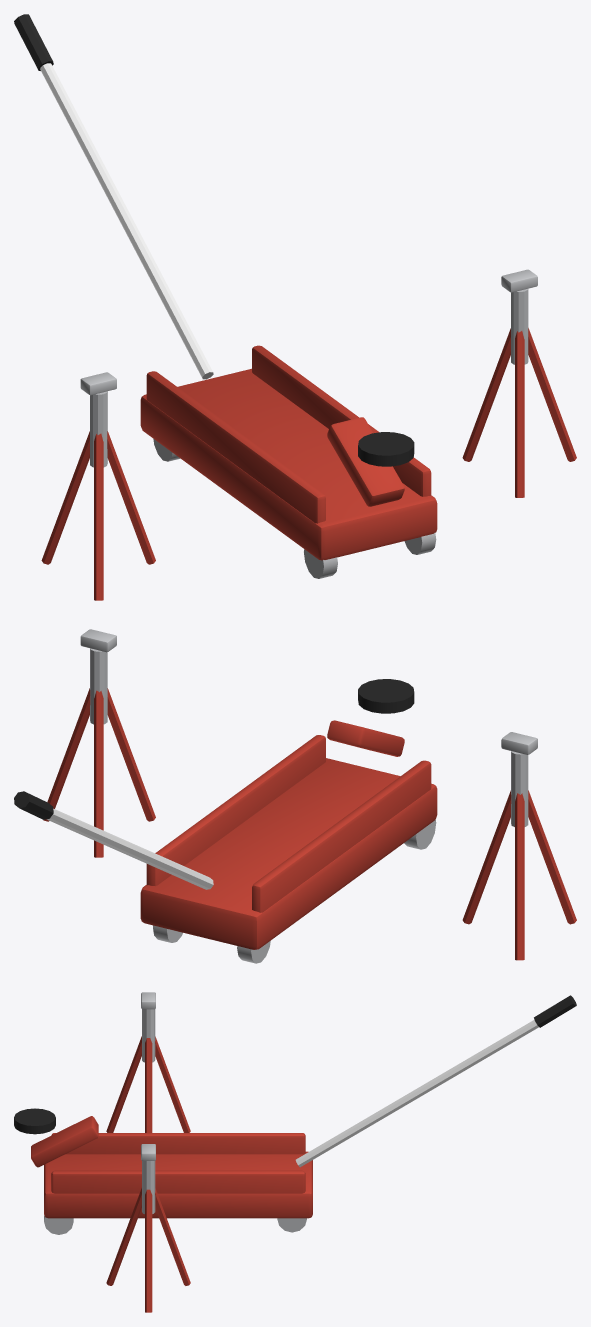
The model's file is g_jack.fbx.
3 renders of one model, top to bottom at view 1: azimuth 30°, elevation 25°; view 2: azimuth 150°, elevation 25°; view 3: azimuth 270°, elevation 25°, orthographic. The views are drawn at different scales.
Visible parts, largest first — view 1: g_jack_red, g_jack_steel, g_jack_chrome, g_jack_rubber; view 2: g_jack_red, g_jack_steel, g_jack_rubber, g_jack_chrome; view 3: g_jack_red, g_jack_chrome, g_jack_steel, g_jack_rubber.
Part boxes in pixels (left/top/right/bottom): g_jack_red: left=41, top=328, right=576, bottom=600; g_jack_steel: left=80, top=269, right=537, bottom=578; g_jack_chrome: left=40, top=63, right=213, bottom=379; g_jack_rubber: left=14, top=14, right=414, bottom=466; g_jack_red: left=43, top=688, right=576, bottom=960; g_jack_steel: left=80, top=629, right=537, bottom=963; g_jack_rubber: left=14, top=679, right=414, bottom=819; g_jack_chrome: left=47, top=808, right=213, bottom=889; g_jack_red: left=31, top=1036, right=312, bottom=1312; g_jack_chrome: left=295, top=1020, right=538, bottom=1167; g_jack_steel: left=44, top=992, right=306, bottom=1234; g_jack_rubber: left=14, top=995, right=576, bottom=1134.
Size of the model in its own units: 1.45 by 0.8218 by 1.88.
